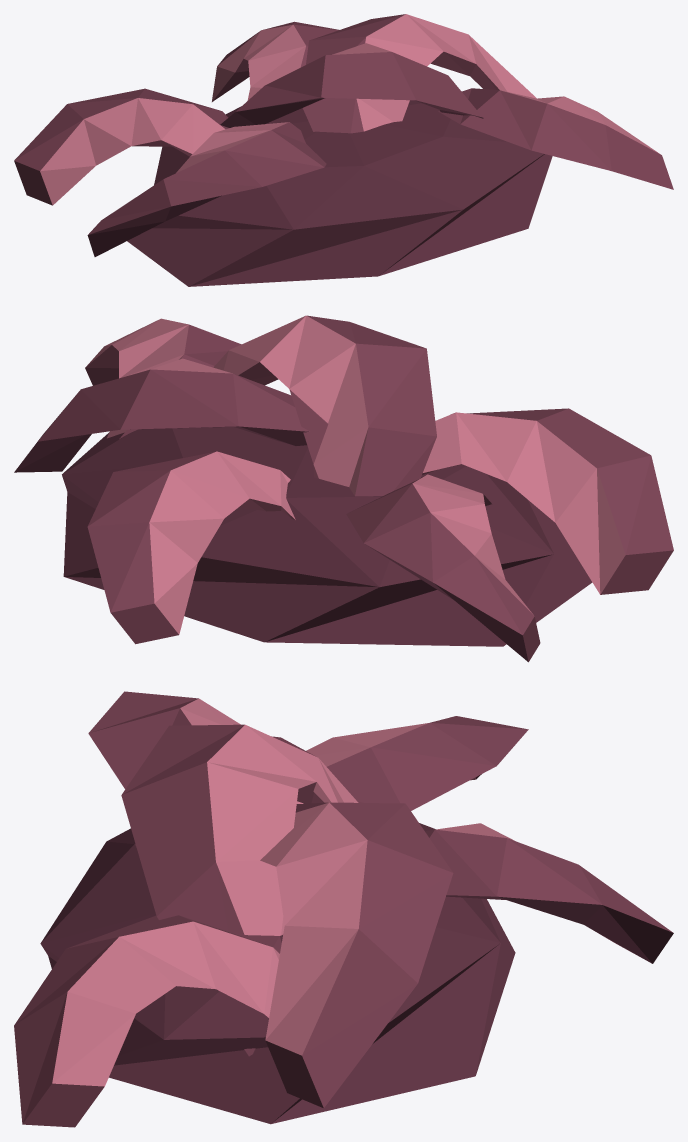
The model's file is item_meat_twisted_c.obj.
3 views of the same model, one above another, from view 1: azimuth 30°, elevation 25°; view 2: azimuth 150°, elevation 25°; view 3: azimuth 270°, elevation 25° (orthographic). The views are drawn at different scales.
Size of the model in its own units: 0.8998 by 0.2778 by 0.6868.
